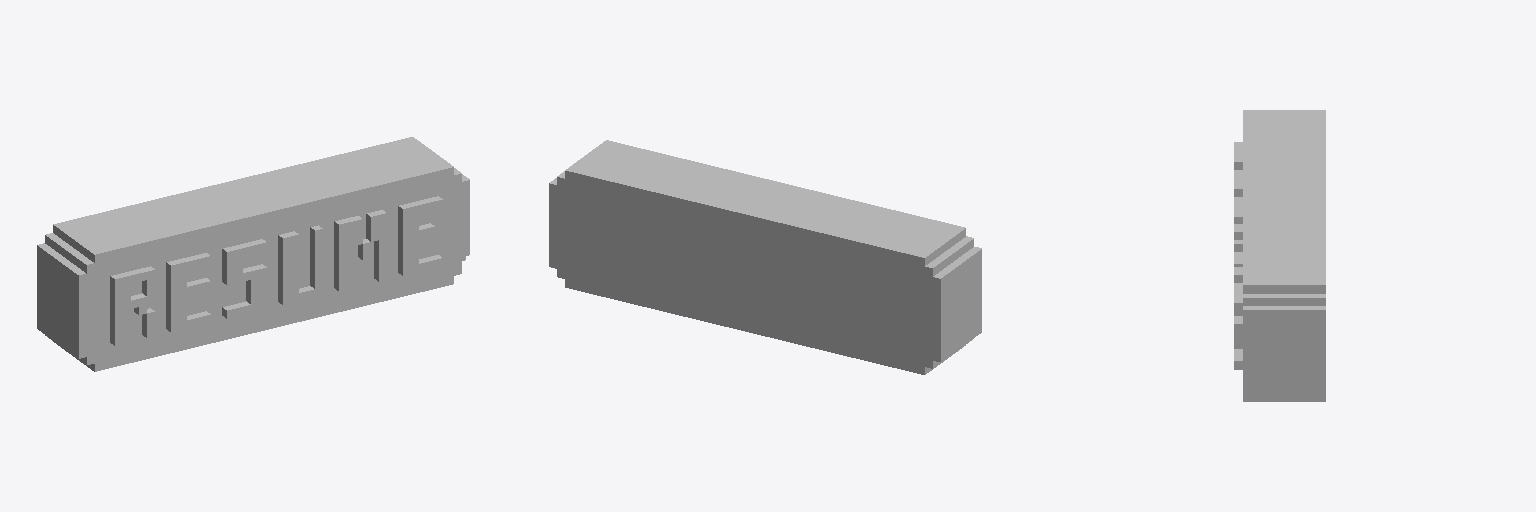
Rendered from Resume.obj.
3 renders of one model, left to right at view 1: azimuth 30°, elevation 25°; view 2: azimuth 150°, elevation 25°; view 3: azimuth 270°, elevation 25°, orthographic.
Parts seen in each view (by area): view 1: object 1; view 2: object 1; view 3: object 1.
Boxes of the visible parts, x1,y1,x2,y2 form: object 1: [37, 137, 469, 371]; object 1: [549, 140, 981, 374]; object 1: [1234, 110, 1325, 401].
Bounding box in the file's own units: 4.9 × 1.4 × 1.